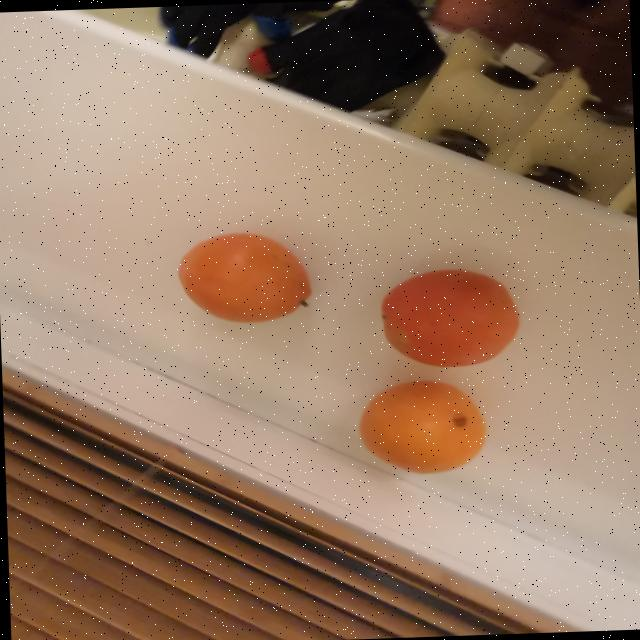orange: (381, 268, 519, 366), (178, 231, 311, 321), (359, 379, 486, 473)
